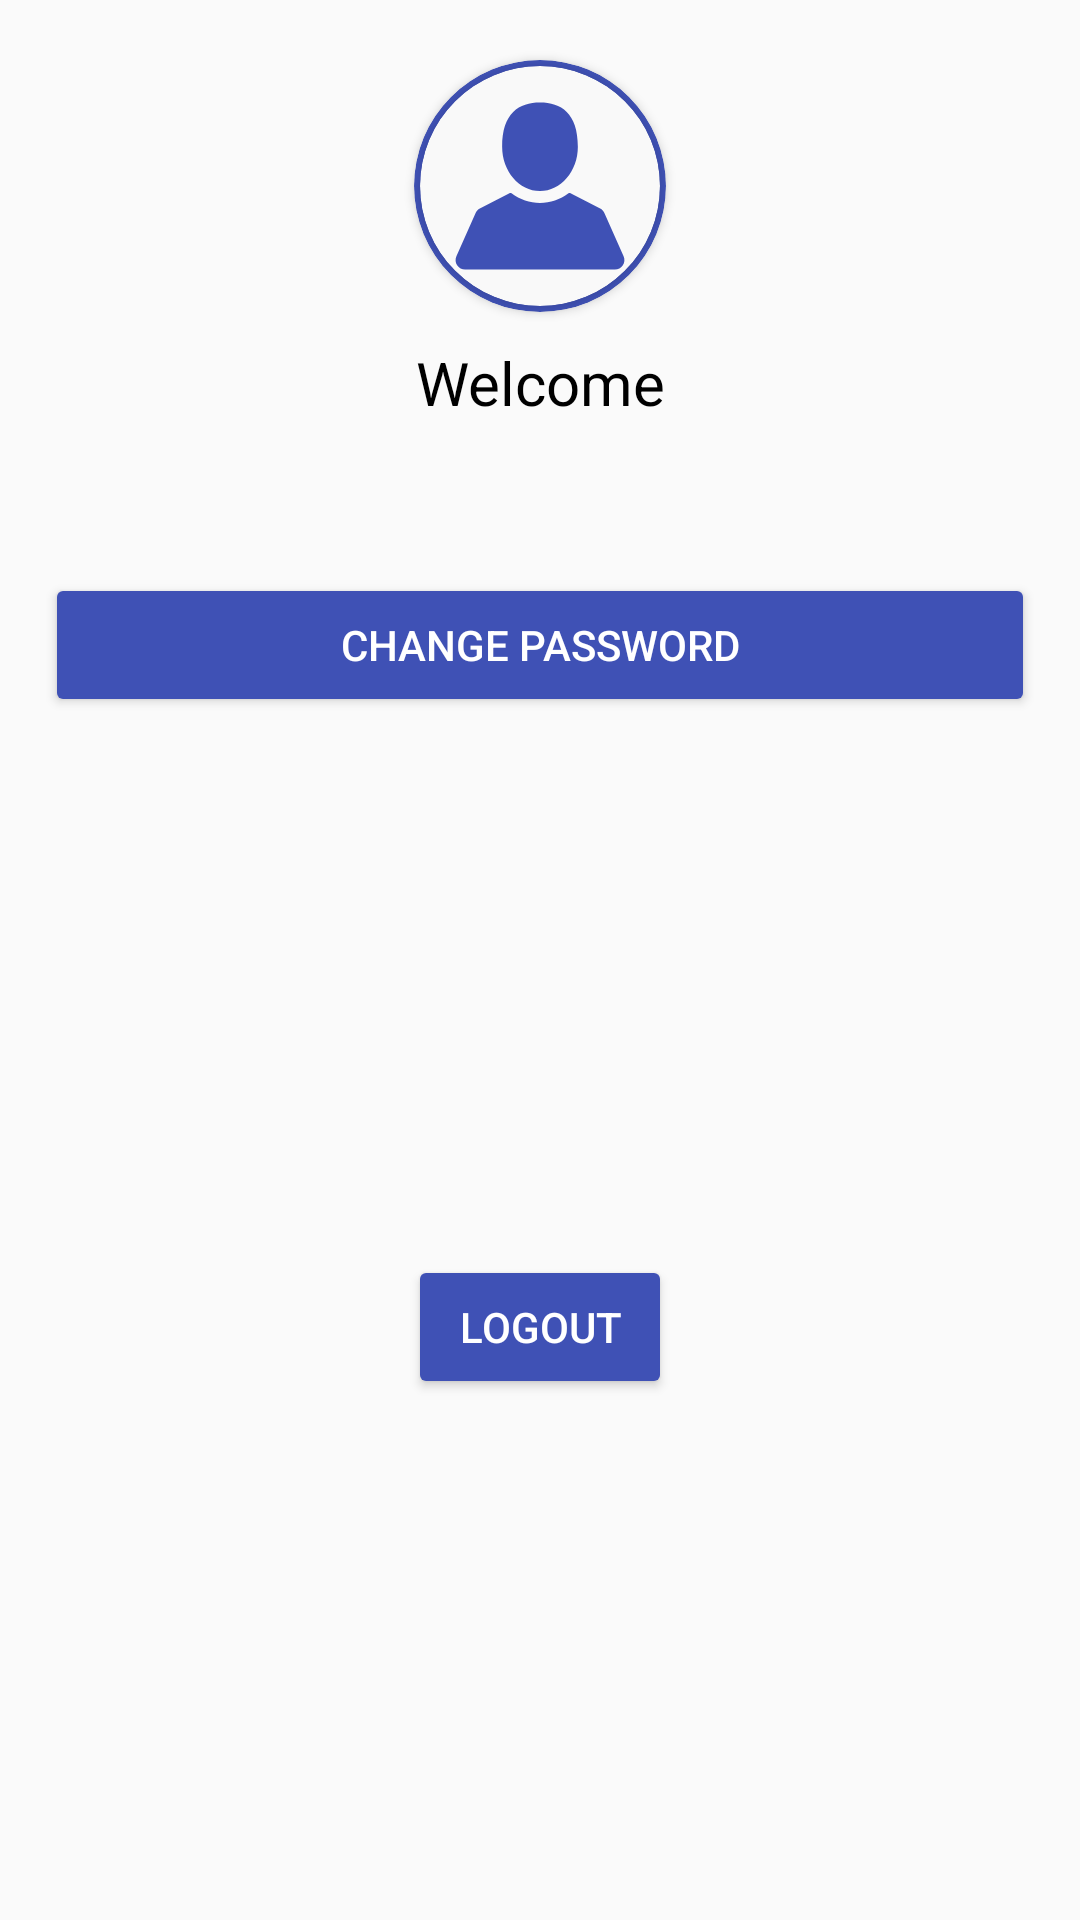

Named icons in this screenshot (1080w x 1920h) and their centers, (x=x, y=y):
user profile: (x=540, y=186)
